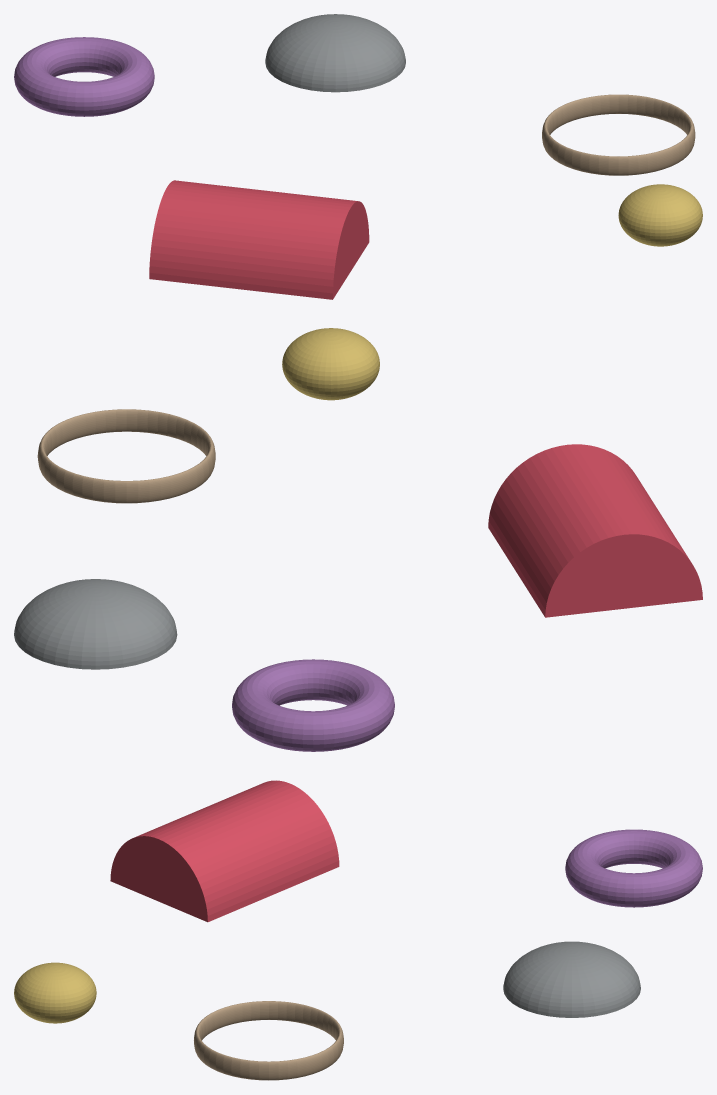
The model's file is elementos.glb.
3 views of the same model, one above another, from view 1: azimuth 30°, elevation 25°; view 2: azimuth 150°, elevation 25°; view 3: azimuth 270°, elevation 25° (orthographic). The views are drawn at different scales.
Visible parts, largest first — view 1: Mesh_Mesh_head_geo.001_lambert2SG.001; view 2: Mesh_Mesh_head_geo.001_lambert2SG.001; view 3: Mesh_Mesh_head_geo.001_lambert2SG.001.
Boxes of the visible parts, left/top/right/bottom form: Mesh_Mesh_head_geo.001_lambert2SG.001: left=14, top=14, right=702, bottom=299; Mesh_Mesh_head_geo.001_lambert2SG.001: left=14, top=328, right=702, bottom=751; Mesh_Mesh_head_geo.001_lambert2SG.001: left=14, top=780, right=702, bottom=1080.
Bounding box in the file's own units: 0.0901 × 0.01 × 0.1.
